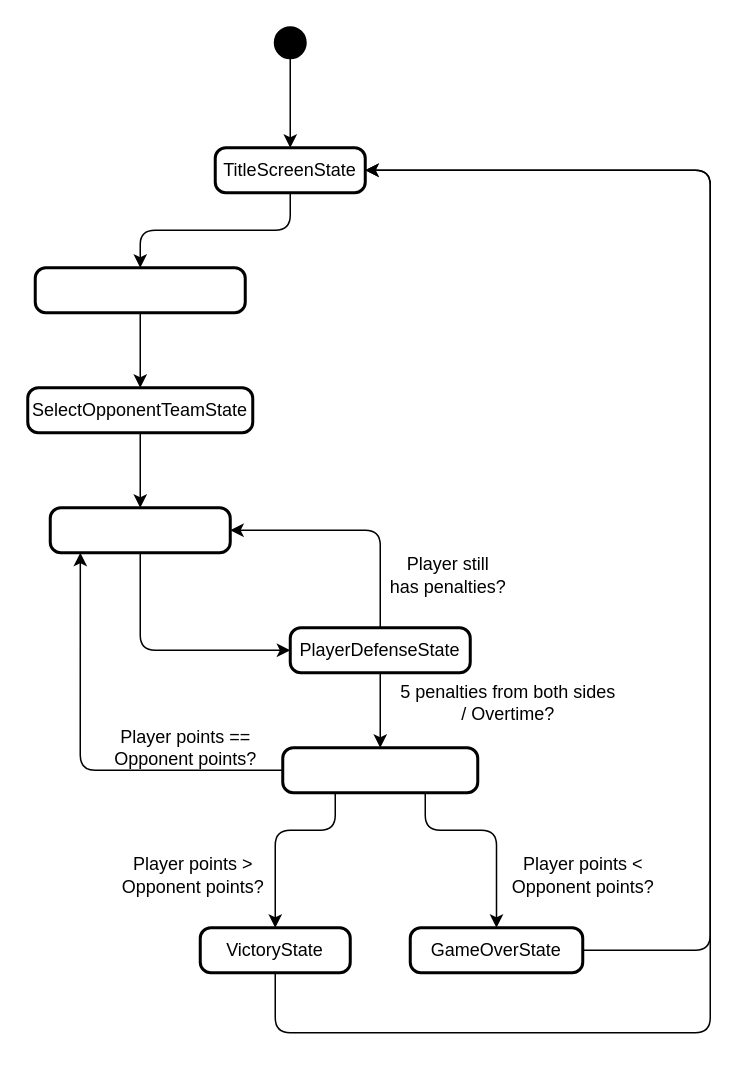
Image size: 749x1071. Some labels were removed from this diagram. The centre of each missing label's shape, as x and y in pixels:
DetermineEndState: [379,770]
PlayerAttackState: [139,530]
SelectPlayerTeamState: [139,290]
